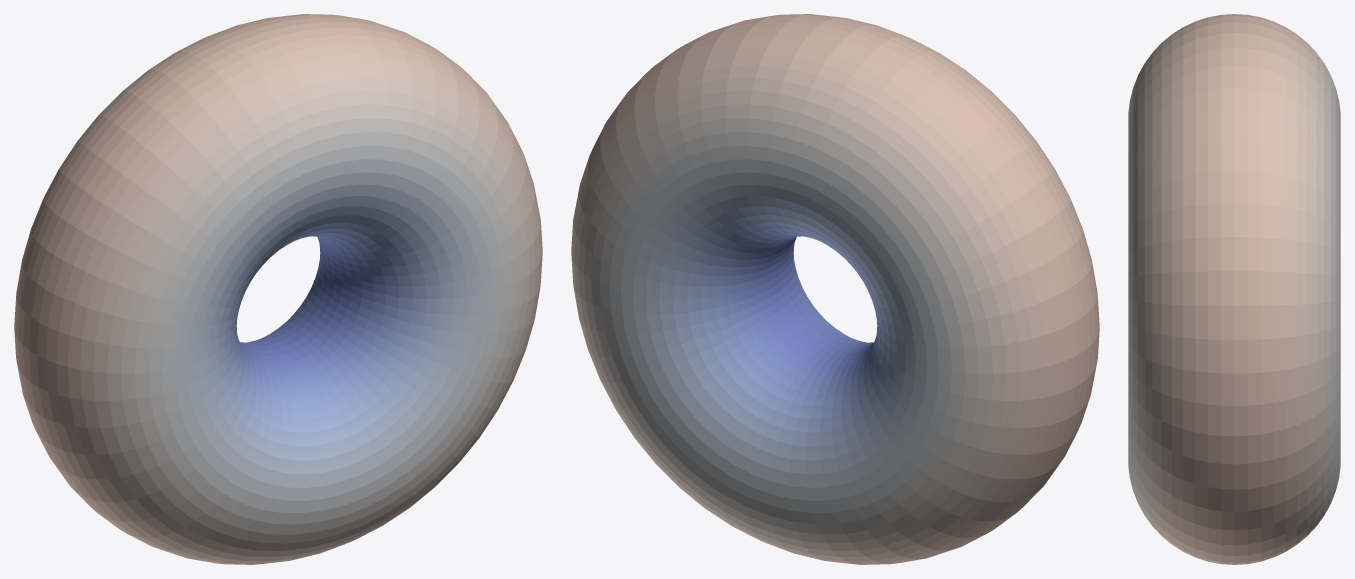
3 views of the same model, side by side, from view 1: azimuth 30°, elevation 25°; view 2: azimuth 150°, elevation 25°; view 3: azimuth 270°, elevation 25° (orthographic). The views are drawn at different scales.
Parts seen in each view (by area): view 1: world; view 2: world; view 3: world.
Boxes of the visible parts, x1,y1,x2,y2 form: world: (14,14,542,564); world: (571,14,1099,564); world: (1128,14,1340,564).
Bounding box in the file's own units: 21.73 × 21.69 × 8.38.
